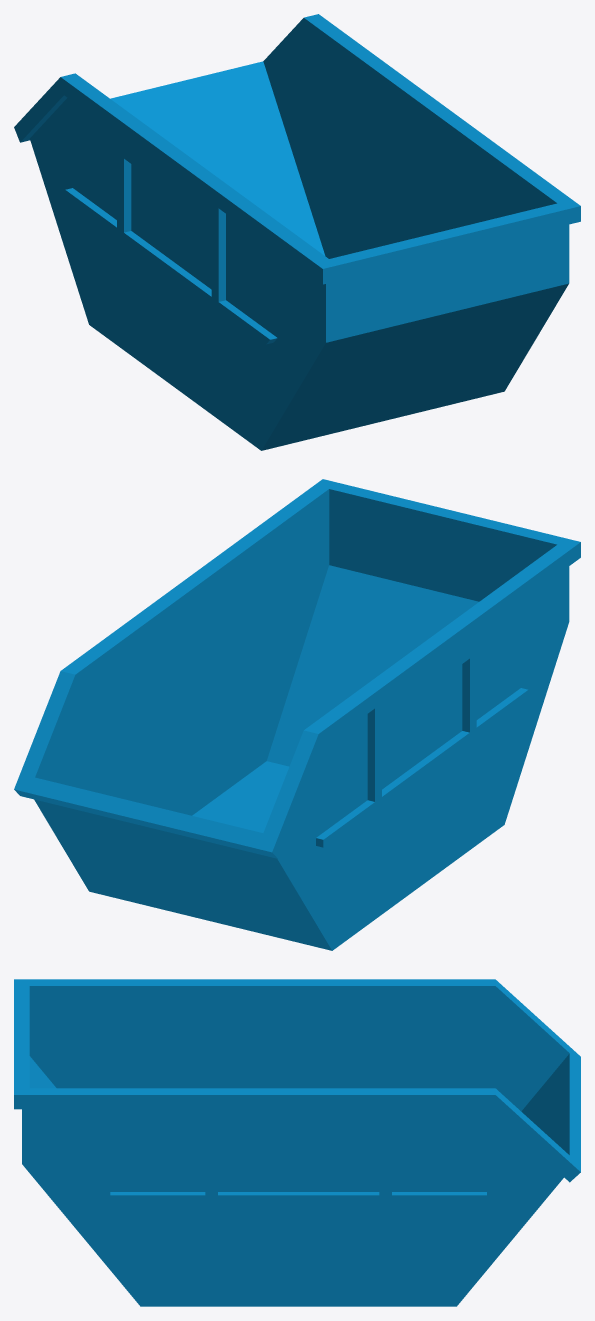
File: V-Abfall-Mulde_dae.dae
The picture shows the model from 3 angles, top to bottom: view 1: azimuth 30°, elevation 25°; view 2: azimuth 150°, elevation 25°; view 3: azimuth 270°, elevation 25°; orthographic projection. The views are drawn at different scales.
Parts seen in each view (by area): view 1: 32yOTpy9fFWvl4XC9R24O0; view 2: 32yOTpy9fFWvl4XC9R24O0; view 3: 32yOTpy9fFWvl4XC9R24O0.
Part boxes in pixels (x1,y1,x2,y2): 32yOTpy9fFWvl4XC9R24O0: [14, 14, 580, 450]; 32yOTpy9fFWvl4XC9R24O0: [14, 479, 580, 950]; 32yOTpy9fFWvl4XC9R24O0: [14, 979, 580, 1306].
Bounding box in the file's own units: 1.73 × 3.59 × 1.5.
